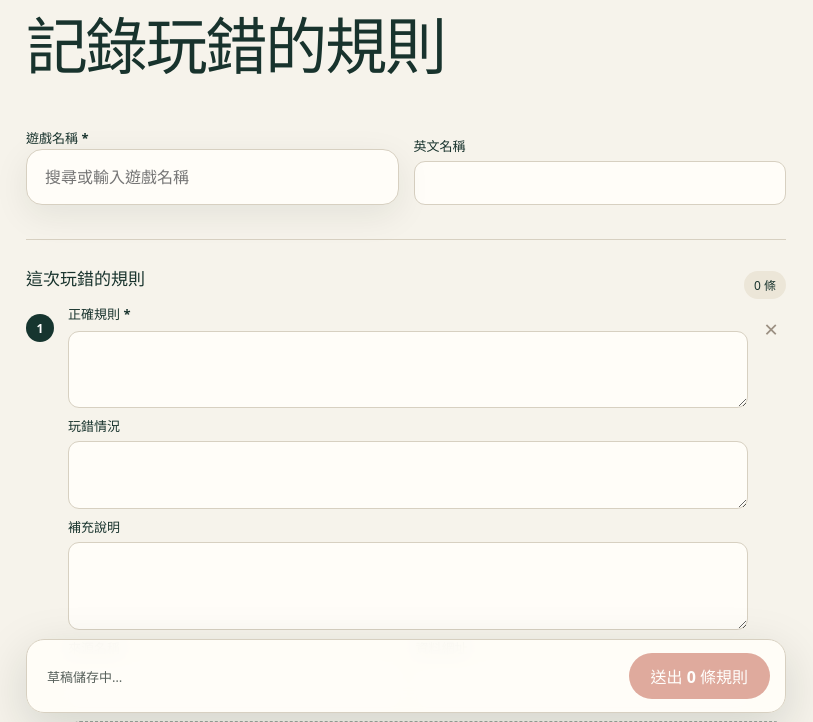
it: AddPage contribution constraints › reports failed autosave and retries the latest content without automatic retries
Step 1. Type "重試時要儲存這份內容" into the text box labelled "正確規則 *" → point(408, 370), box [68, 331, 748, 408]
Wait 10251 ms
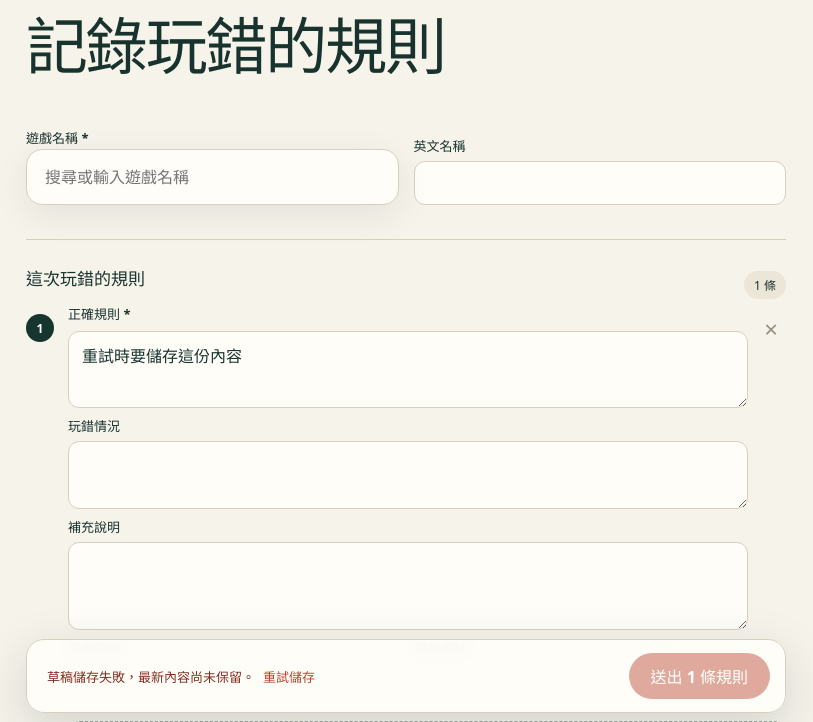
Check: the message shows "草稿儲存失敗", box [47, 668, 255, 686]
Step 2. Click the button "重試儲存" → point(289, 676), box [263, 654, 315, 698]
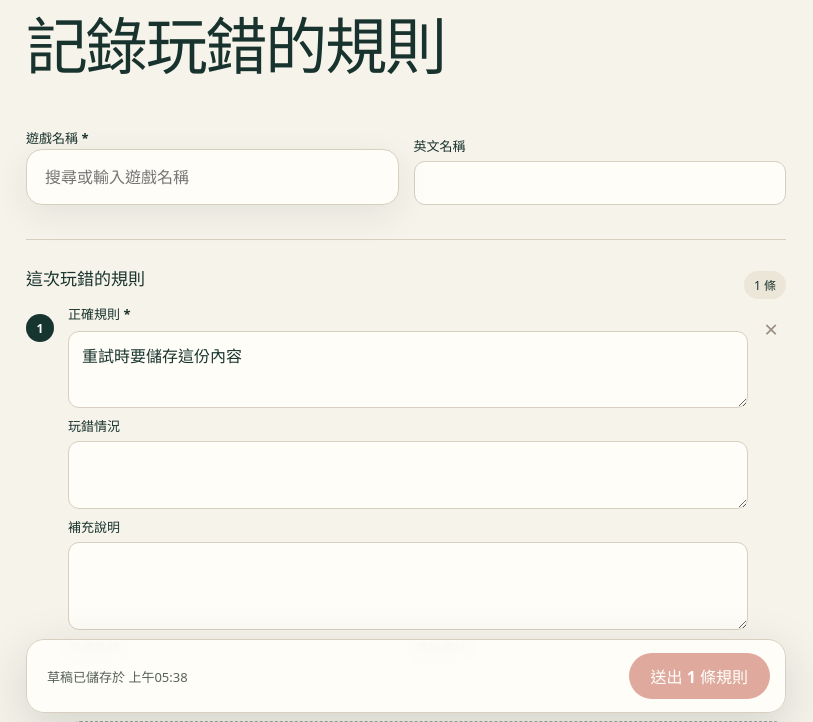
Check: the message shows "草稿已儲存於", box [47, 668, 188, 686]
